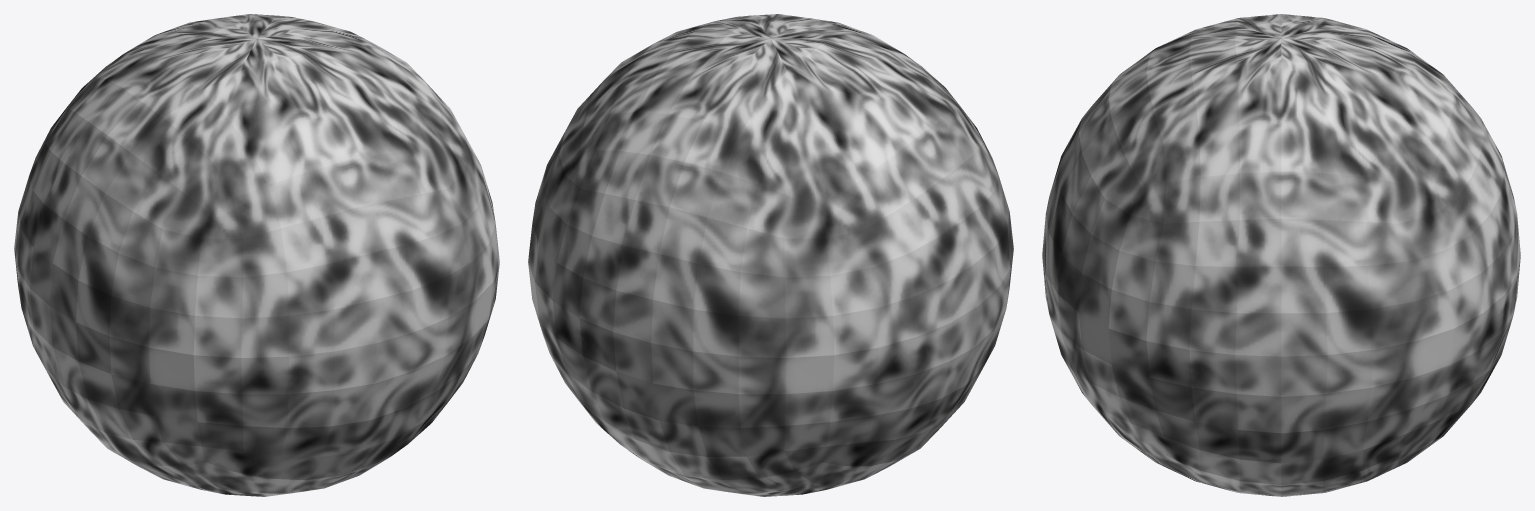
The model's file is KoopaBattleSunPlanet.dae.
3 renders of one model, left to right at view 1: azimuth 30°, elevation 25°; view 2: azimuth 150°, elevation 25°; view 3: azimuth 270°, elevation 25°, orthographic.
Visible parts, largest first — view 1: m0; view 2: m0; view 3: m0.
Part boxes in pixels (box(x1,y1,x2,y2)): m0: box(14, 14, 499, 496); m0: box(528, 14, 1013, 496); m0: box(1042, 14, 1520, 496).
Bounding box in the file's own units: 3500 × 3500 × 3500.
Materials: 1 (1 with a texture image).
